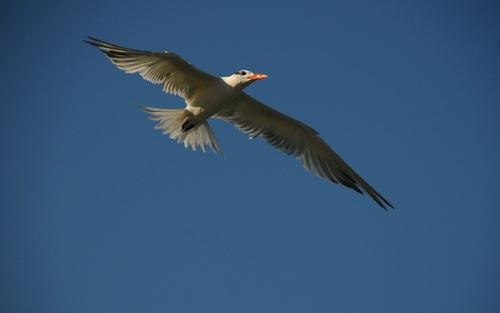bird: (95, 36, 395, 214)
